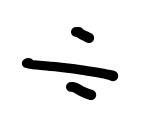div: (24, 26, 117, 100)
